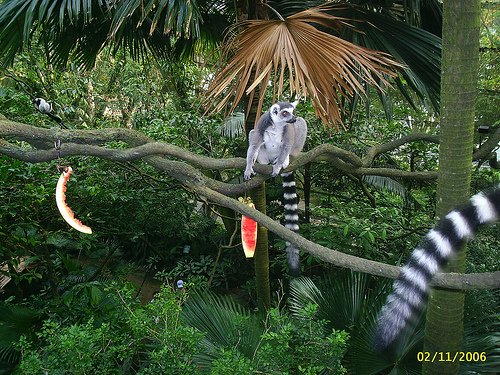cat: (348, 174, 498, 360), (244, 99, 309, 269)
